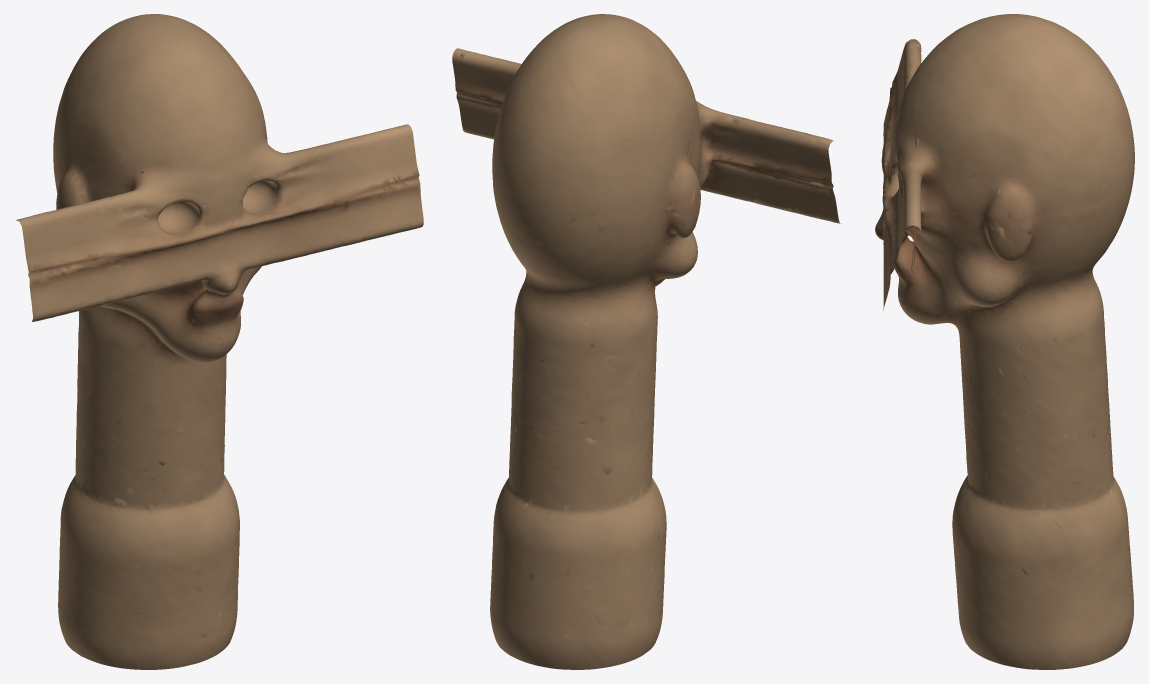
File: player_skin.glb
3 views of the same model, side by side, from view 1: azimuth 30°, elevation 25°; view 2: azimuth 150°, elevation 25°; view 3: azimuth 270°, elevation 25° (orthographic). The views are drawn at different scales.
Parts seen in each view (by area): view 1: geometry_0; view 2: geometry_0; view 3: geometry_0.
Boxes of the visible parts, left/top/right/bottom form: geometry_0: left=16, top=14, right=423, bottom=669; geometry_0: left=452, top=14, right=840, bottom=669; geometry_0: left=875, top=14, right=1134, bottom=669.
Bounding box in the file's own units: 0.2916 × 0.446 × 0.1715.
